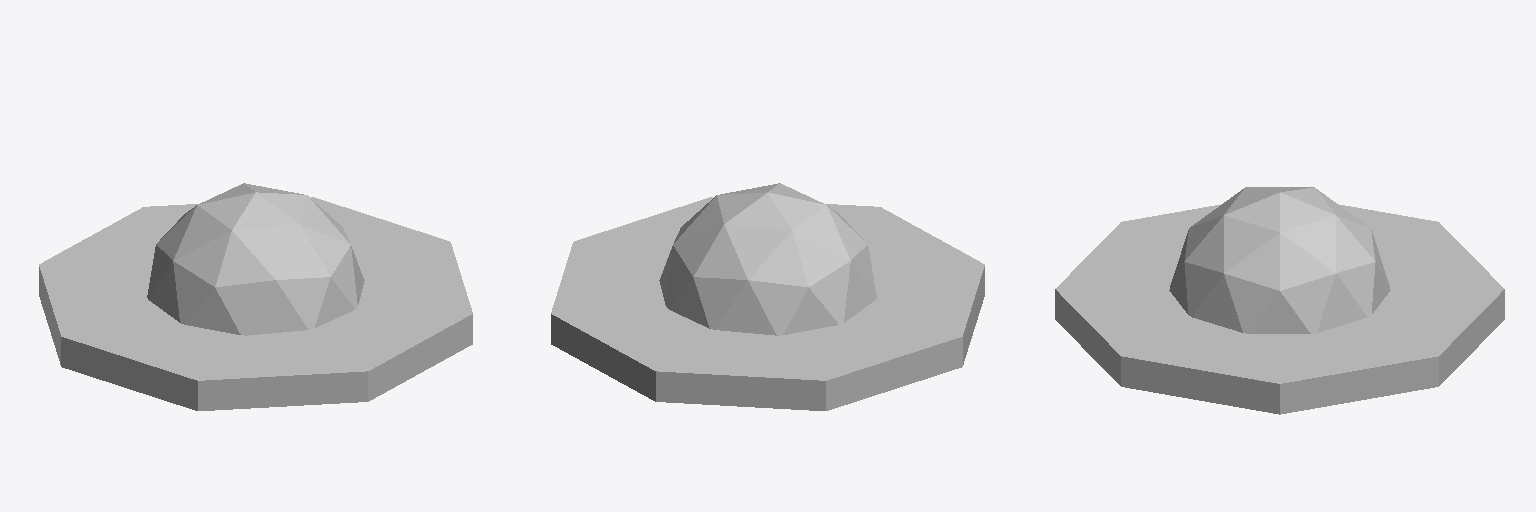
The model's file is ovni.obj.
The picture shows the model from 3 angles: view 1: azimuth 30°, elevation 25°; view 2: azimuth 150°, elevation 25°; view 3: azimuth 270°, elevation 25°; orthographic projection.
Parts seen in each view (by area): view 1: Cylinder, Icosphere; view 2: Cylinder, Icosphere; view 3: Cylinder, Icosphere.
Part boxes in pixels (left/top/right/bottom): Cylinder: left=39, top=197, right=472, bottom=410; Icosphere: left=147, top=183, right=364, bottom=335; Cylinder: left=551, top=197, right=984, bottom=410; Icosphere: left=659, top=183, right=876, bottom=335; Cylinder: left=1055, top=204, right=1504, bottom=414; Icosphere: left=1169, top=187, right=1390, bottom=333.
Size of the model in its own units: 4 by 1.25 by 4.